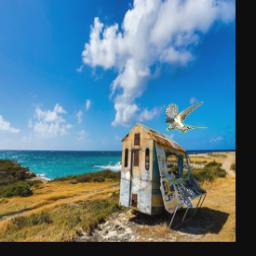Swallow: (165, 101, 207, 133), (177, 184, 195, 209)
